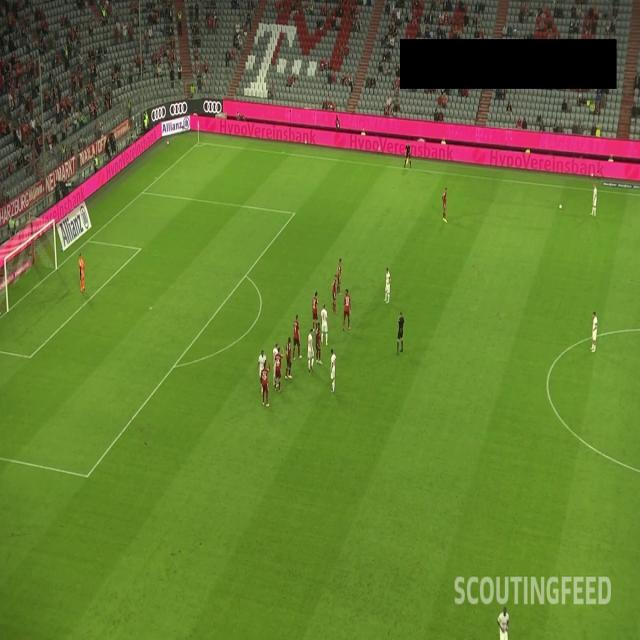ball: (558, 202, 562, 211)
player: (274, 346, 284, 395), (258, 347, 268, 394), (272, 342, 282, 387), (293, 314, 302, 362), (342, 286, 351, 332), (261, 362, 270, 407), (589, 310, 598, 355), (284, 338, 293, 380), (312, 289, 320, 333), (330, 347, 337, 394), (590, 182, 599, 218), (78, 252, 86, 292), (321, 304, 328, 346), (384, 266, 391, 305), (442, 187, 449, 225), (307, 329, 313, 373), (316, 321, 322, 365), (332, 273, 338, 313), (336, 257, 342, 294)
